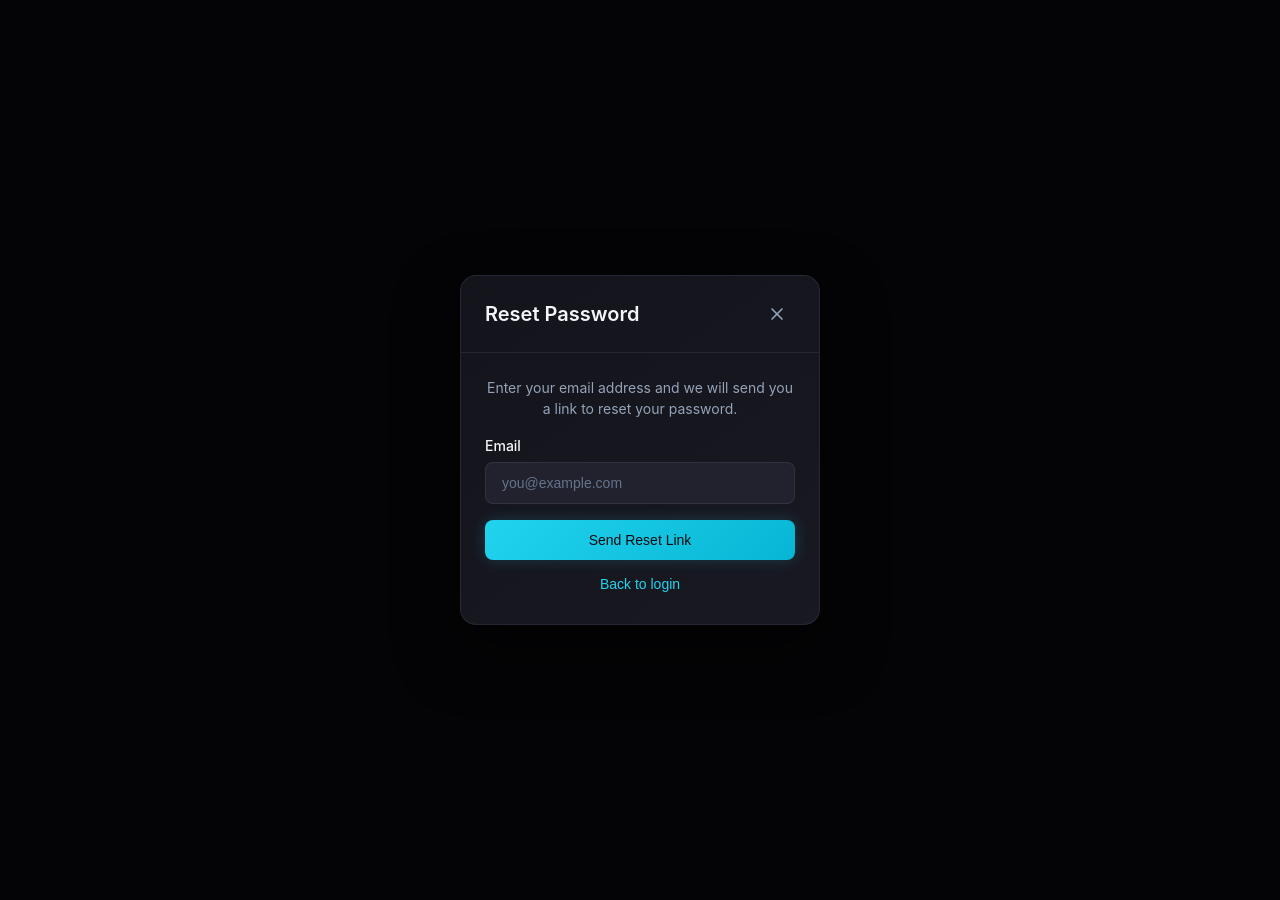
it: ForgotPasswordModal Component › should show validation error for empty email
Click the button with test id "forgot-password-submit" at (640, 540), box [485,520,795,560]
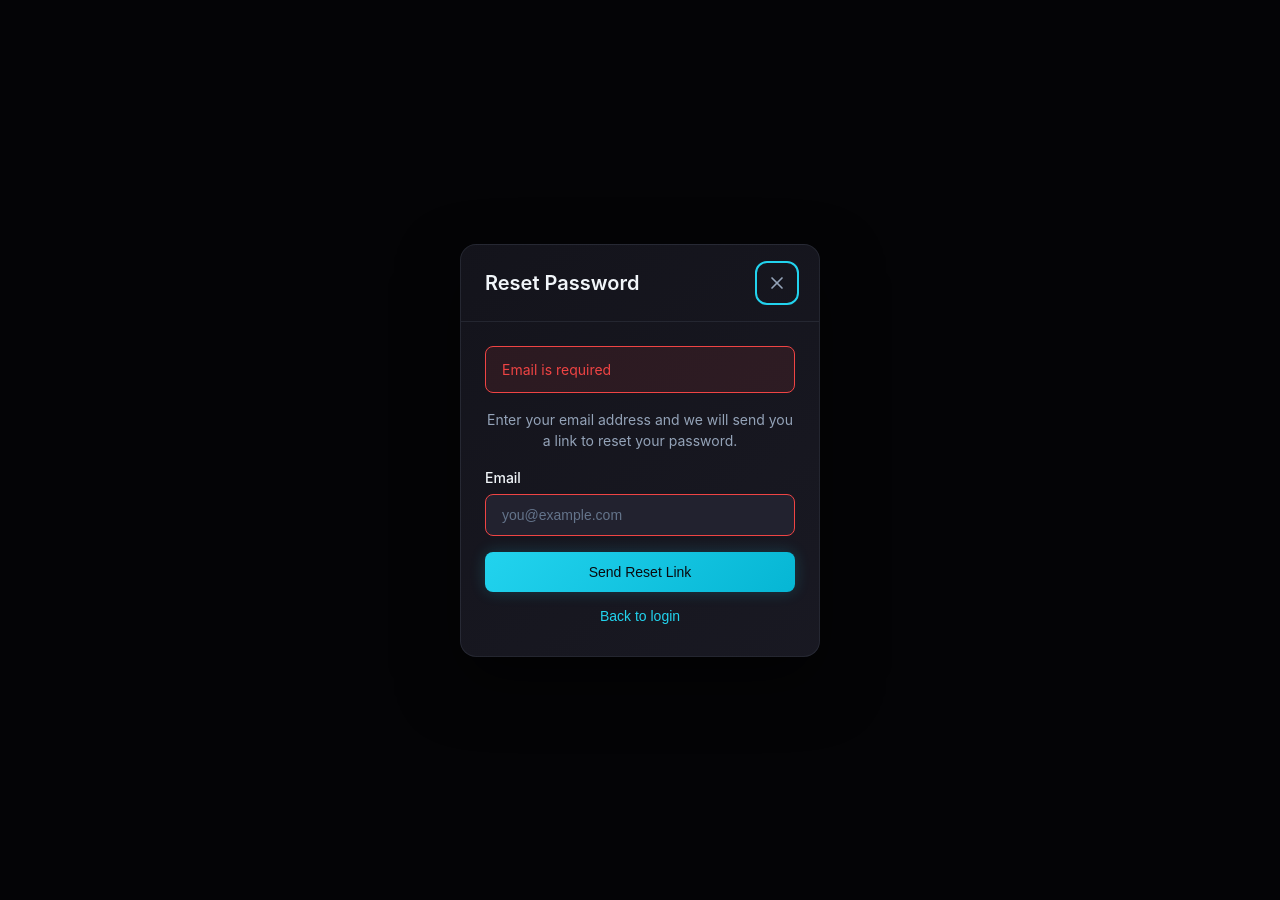
Now the message "Email is required" is shown, box [485,346,795,392]
